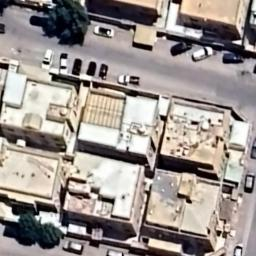SUV: (40, 48, 54, 70)
pickup: (117, 74, 141, 86)
sedan: (169, 40, 193, 58), (93, 25, 116, 40), (57, 52, 70, 74), (245, 172, 256, 194), (72, 56, 84, 76), (87, 60, 97, 78), (99, 63, 109, 81), (103, 249, 128, 256), (233, 242, 244, 256), (249, 137, 256, 159)
van: (219, 50, 247, 66), (190, 44, 213, 62), (61, 238, 85, 254)
